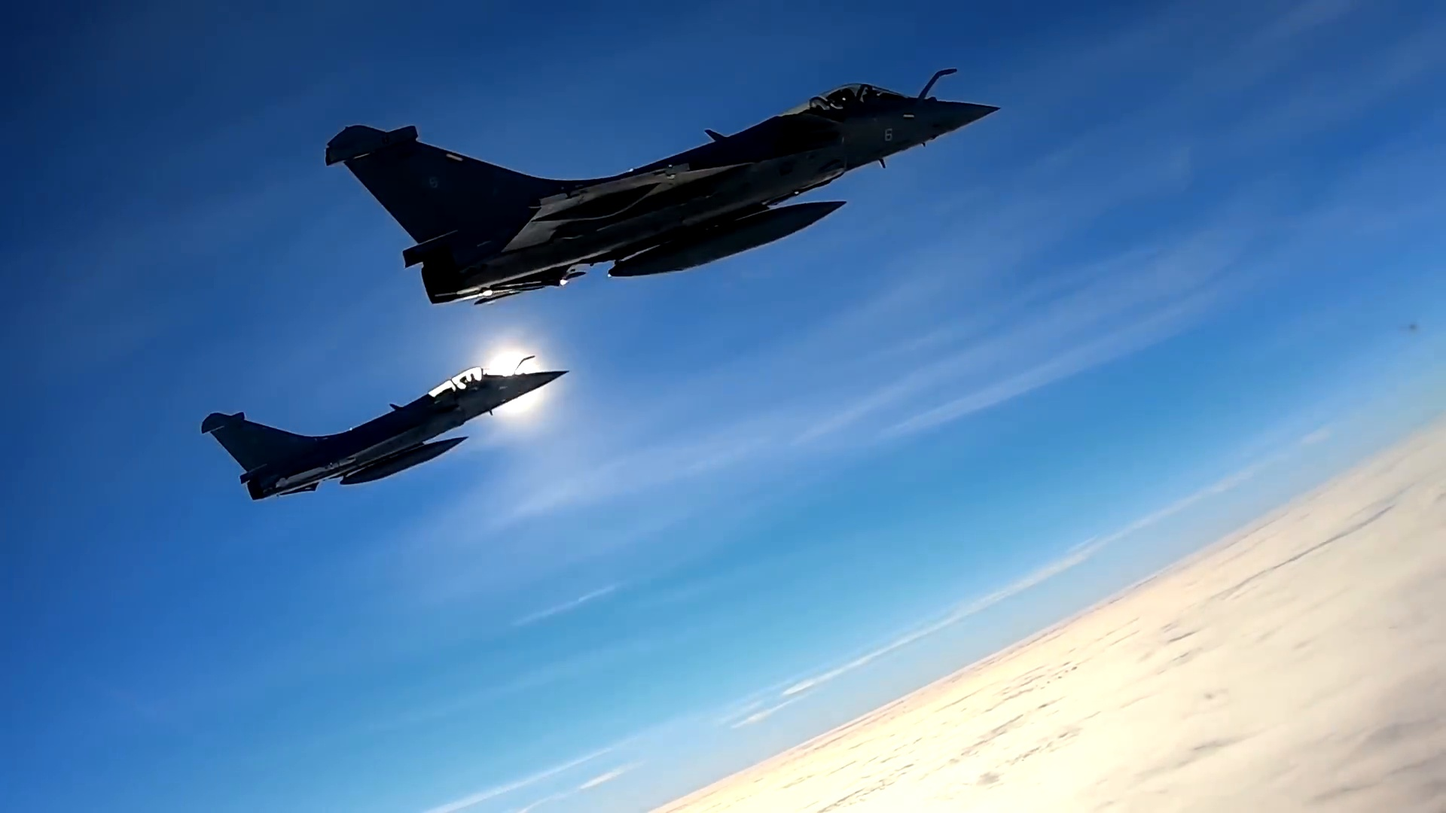Rafale: (323, 68, 1000, 306), (204, 359, 570, 500)
